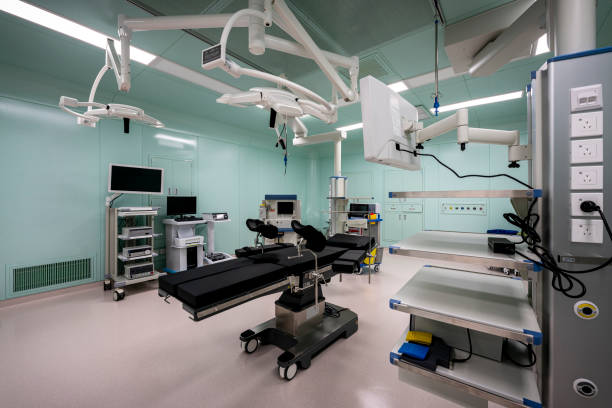bedside_monitor: (109, 164, 164, 196), (272, 195, 302, 219)
computer: (167, 195, 196, 215)
handle: (398, 194, 402, 204), (403, 213, 407, 223), (402, 195, 406, 205), (398, 212, 402, 222)
keyboard: (175, 216, 204, 221)
operating_bed: (157, 218, 376, 381)
surgical_light: (215, 86, 326, 150), (358, 75, 420, 169), (59, 95, 164, 133)
